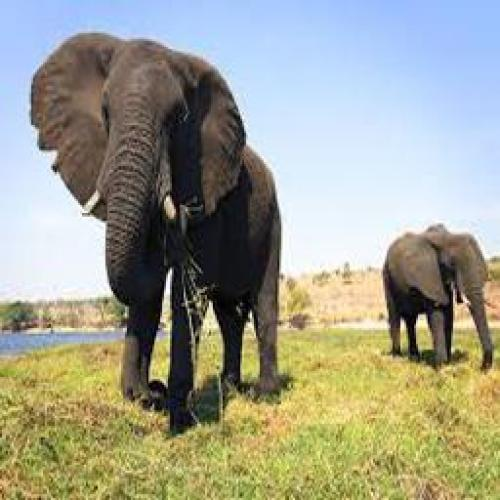african_elephant-endangered: (31, 32, 284, 432), (382, 225, 494, 370)
